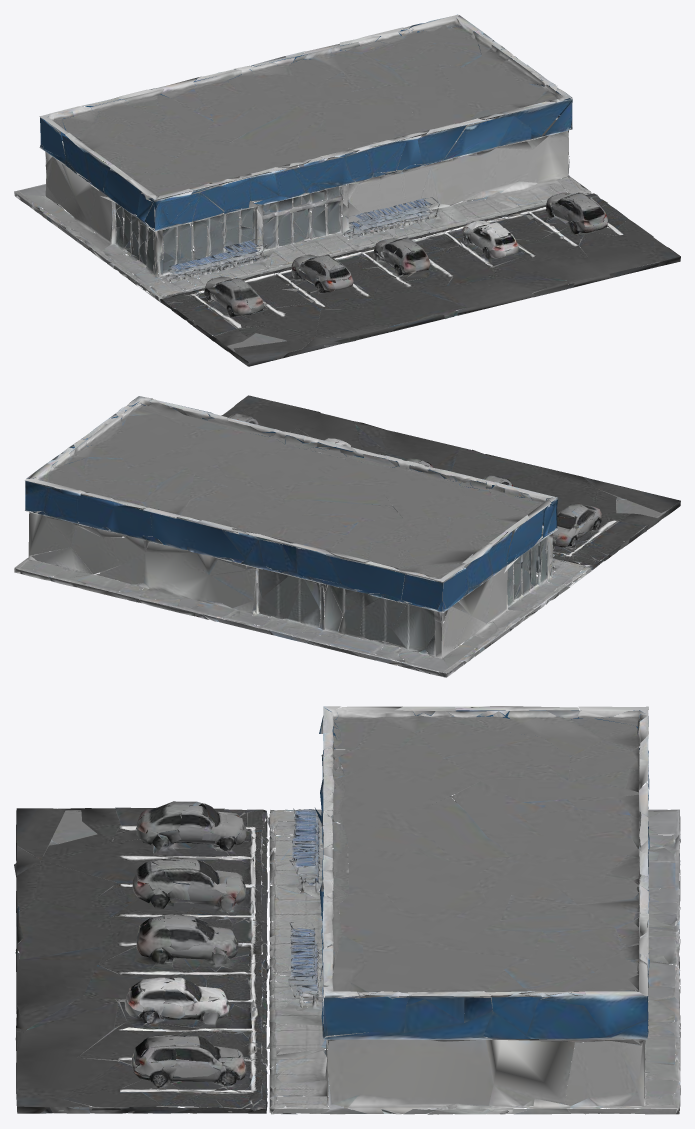
Rendered from supermarket.glb.
The picture shows the model from 3 angles, top to bottom: view 1: azimuth 30°, elevation 25°; view 2: azimuth 150°, elevation 25°; view 3: azimuth 270°, elevation 25°; orthographic projection. The views are drawn at different scales.
Visible parts, largest first — view 1: Mesh_0; view 2: Mesh_0; view 3: Mesh_0.
Part boxes in pixels (x1,y1,x2,y2): Mesh_0: (14, 14, 680, 366); Mesh_0: (14, 395, 680, 677); Mesh_0: (14, 706, 680, 1114).
Size of the model in its own units: 14.89 by 2.8 by 13.99.
1 material, 1 textured.
